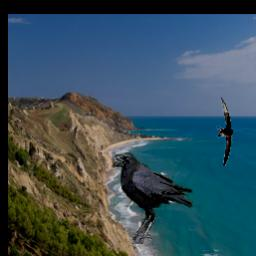Crow: (112, 154, 193, 245)
Swallow: (217, 97, 234, 166)
